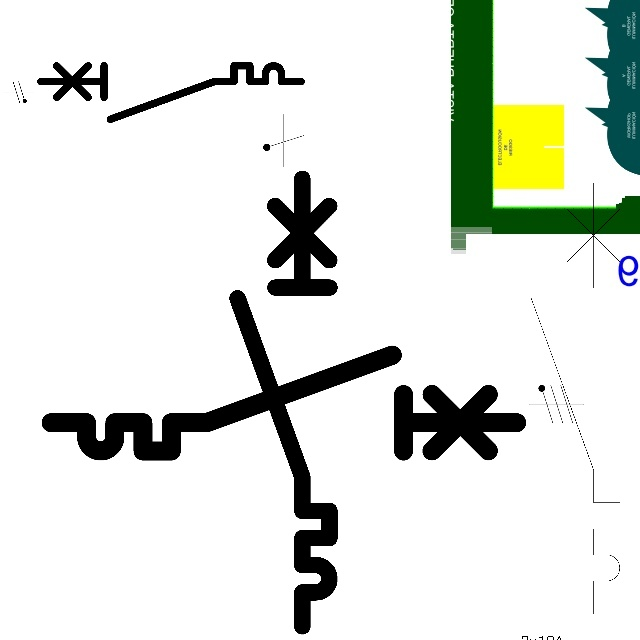interruptor_termomagnetico: (39, 343, 528, 463), (226, 167, 341, 638), (520, 172, 631, 625), (34, 59, 308, 126)
